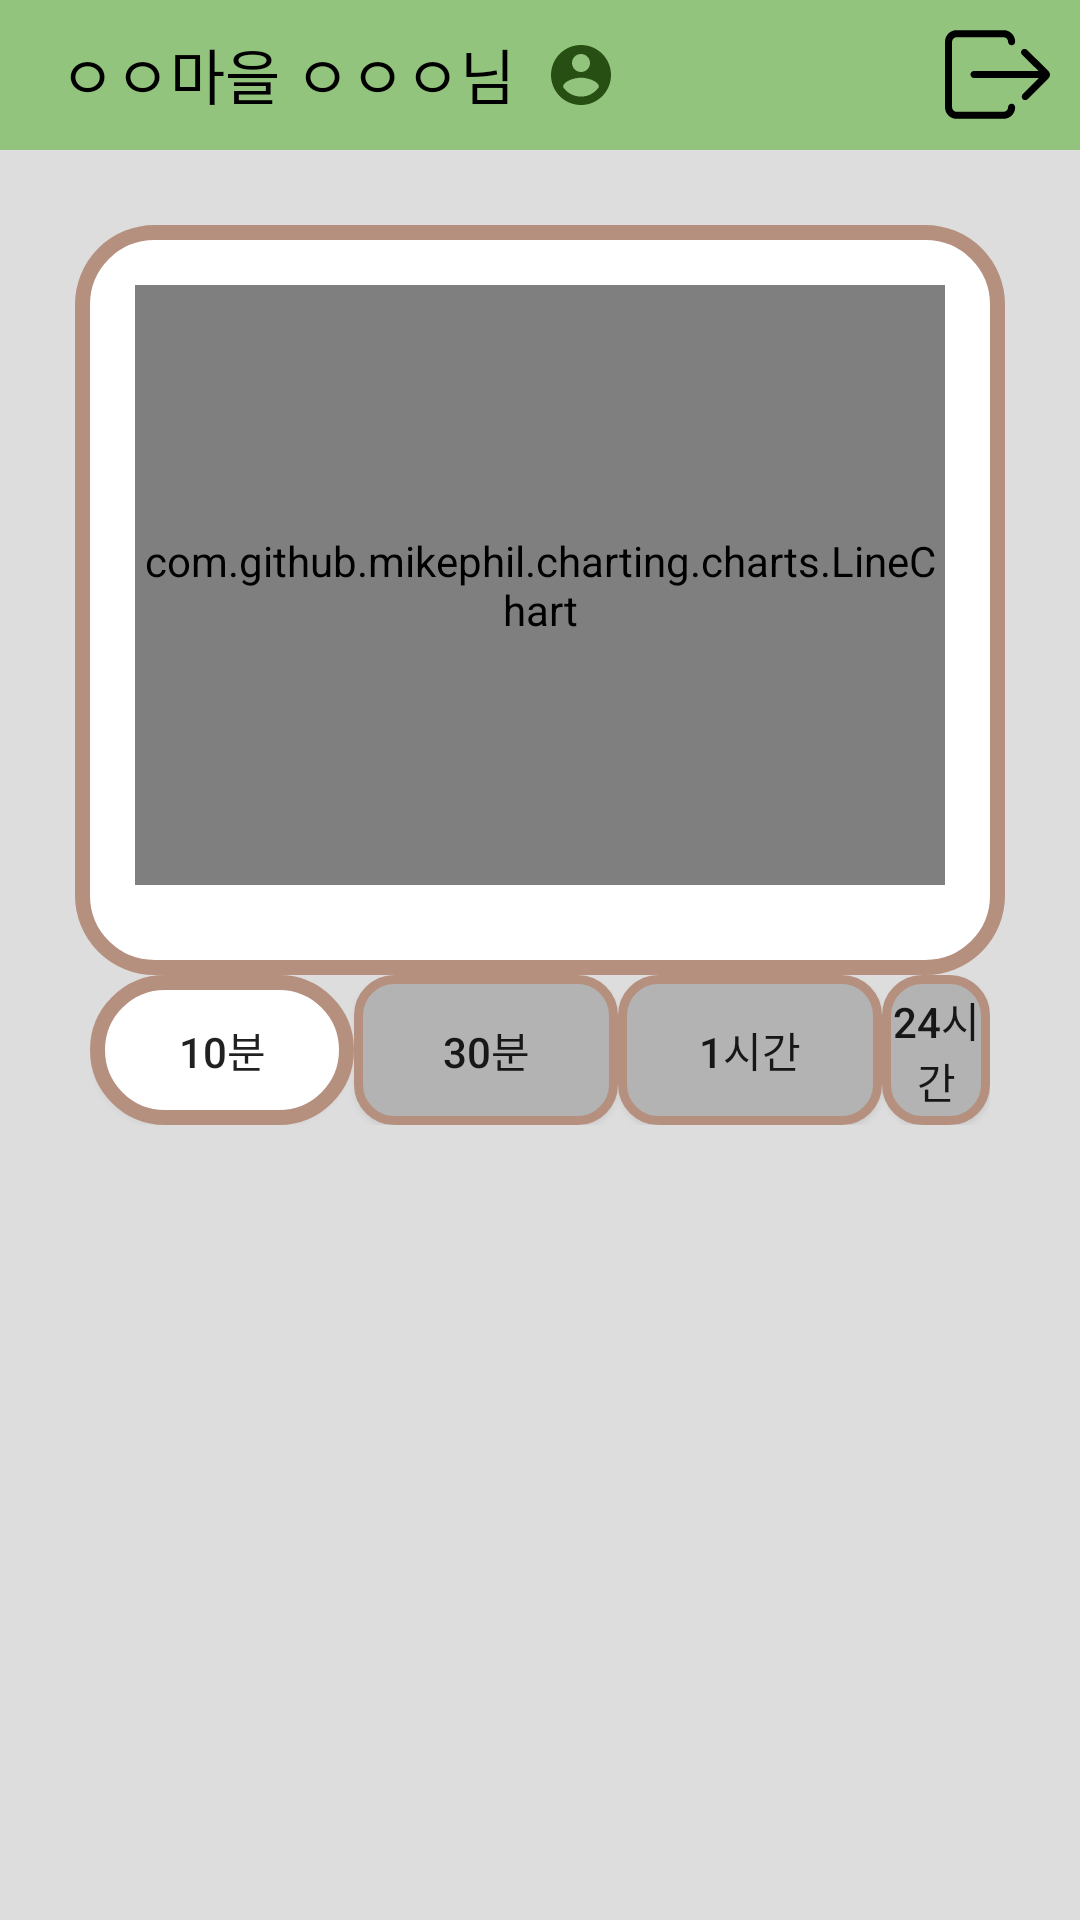

Named icons in this screenshot (1080×1920) and their centers, (x=x, y=y):
person: (x=581, y=75)
